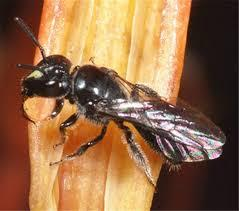Braunsapis: (10, 13, 230, 192)
